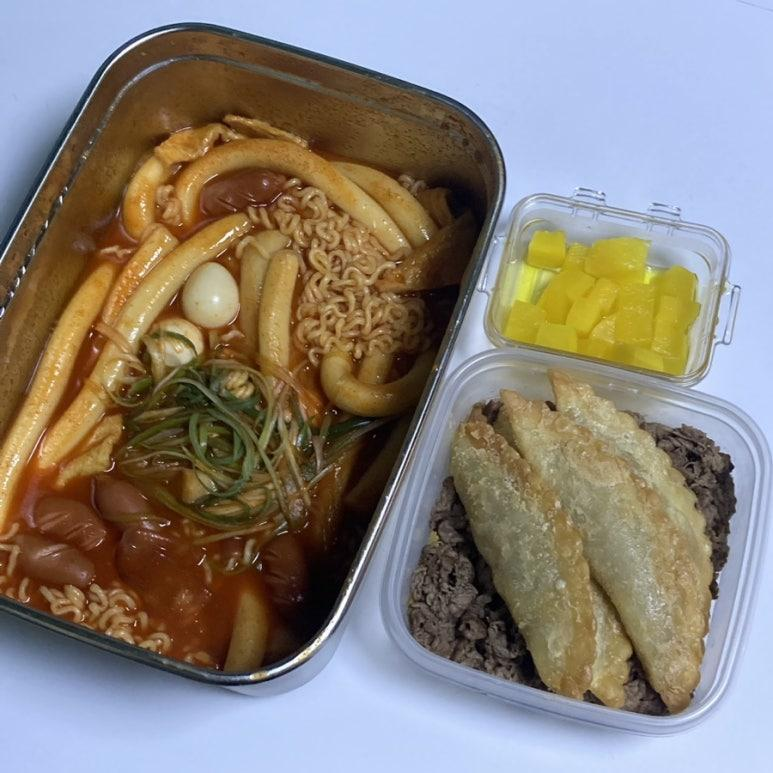Lunch Box: (0, 25, 503, 694), (382, 348, 772, 735), (482, 189, 739, 384)
